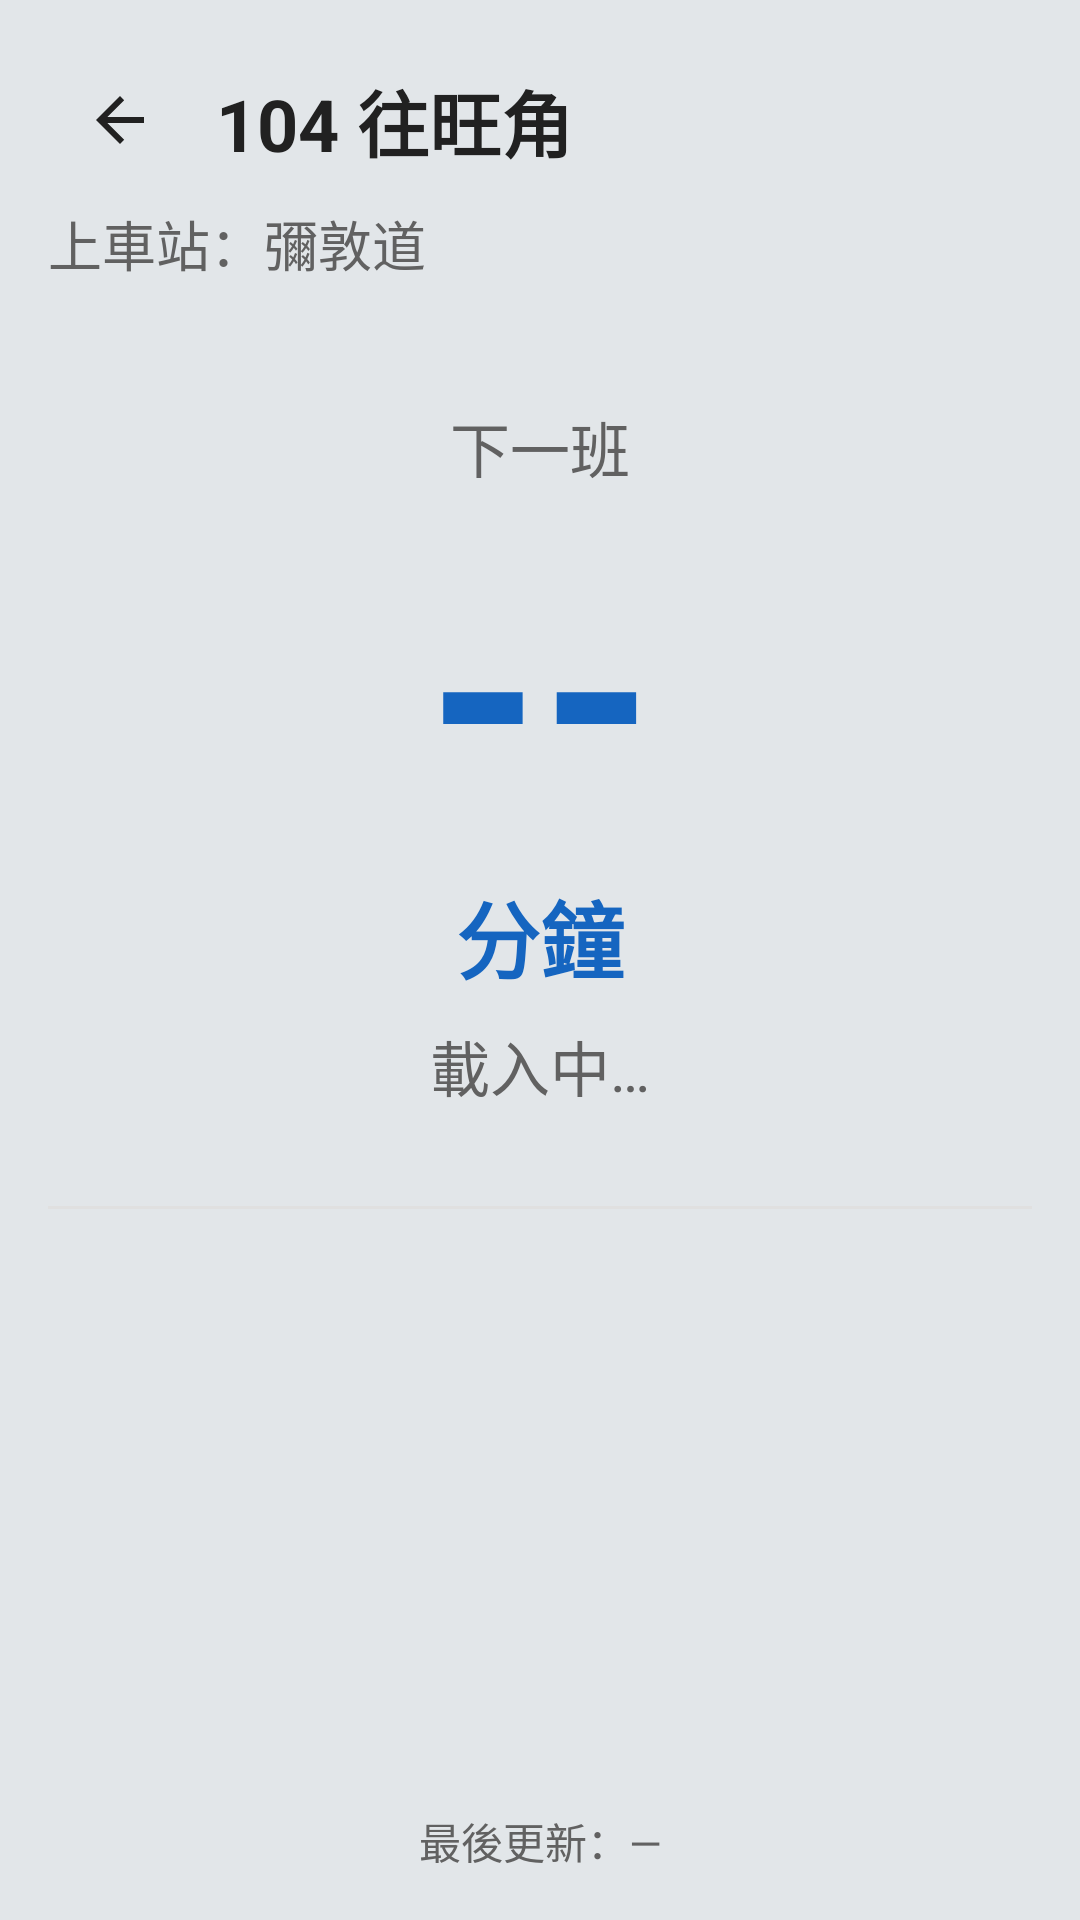

Icons on this 1080px x 1920px Android screen, each with its box as (x1, y1, x2, y2):
返回: (96, 96, 144, 144)
